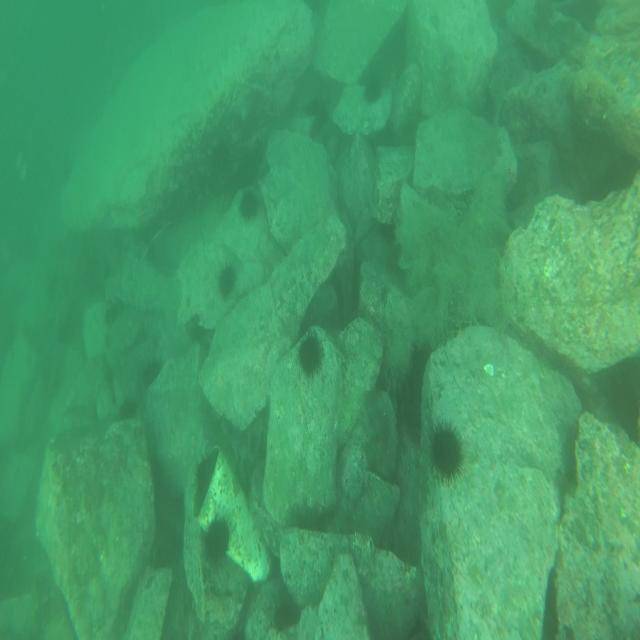echinus: (429, 419, 465, 482), (202, 515, 232, 560), (296, 328, 323, 375), (193, 449, 221, 492), (217, 265, 240, 302), (237, 191, 261, 222), (362, 71, 381, 104), (142, 357, 160, 391), (118, 397, 140, 423)
